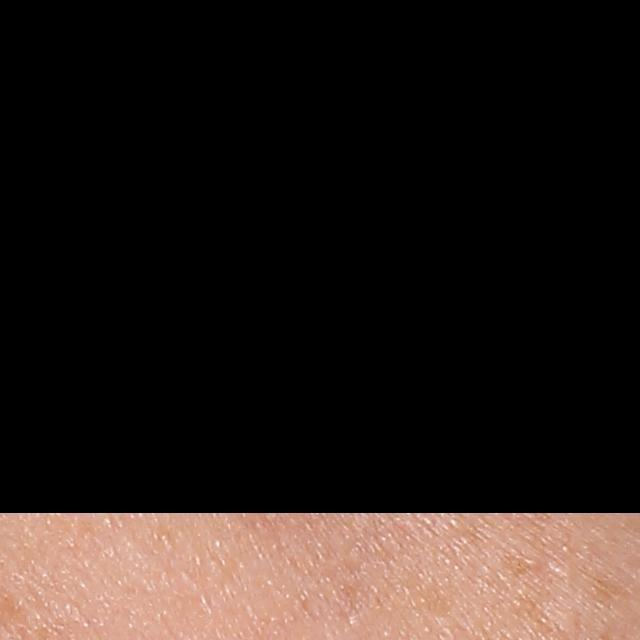melasma: (589, 572, 631, 603)
